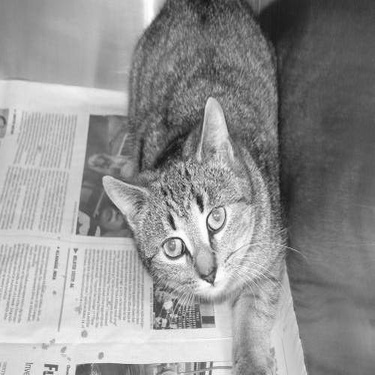cat: (80, 2, 299, 365)
